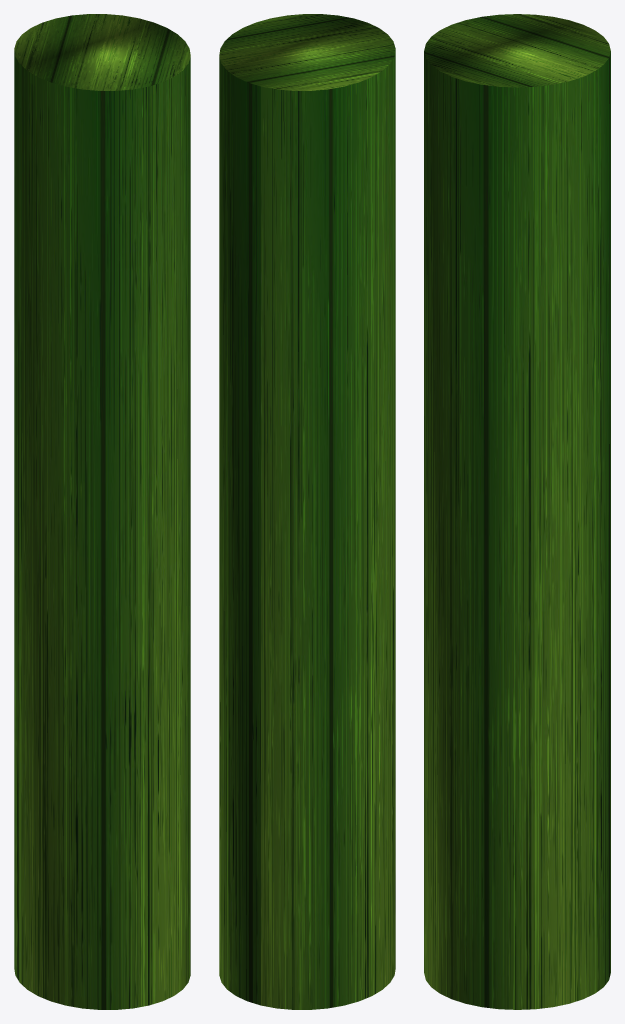
Rendered from lemang.fbx.
The picture shows the model from 3 angles, left to right: view 1: azimuth 30°, elevation 25°; view 2: azimuth 150°, elevation 25°; view 3: azimuth 270°, elevation 25°; orthographic projection.
Parts seen in each view (by area): view 1: Cylinder; view 2: Cylinder; view 3: Cylinder.
Part boxes in pixels (x1=…): Cylinder: x1=14, y1=14, x2=190, y2=1009; Cylinder: x1=219, y1=14, x2=395, y2=1009; Cylinder: x1=424, y1=14, x2=610, y2=1009.
Bounding box in the file's own units: 23.23 × 136 × 24.93.
1 material, 1 textured.
